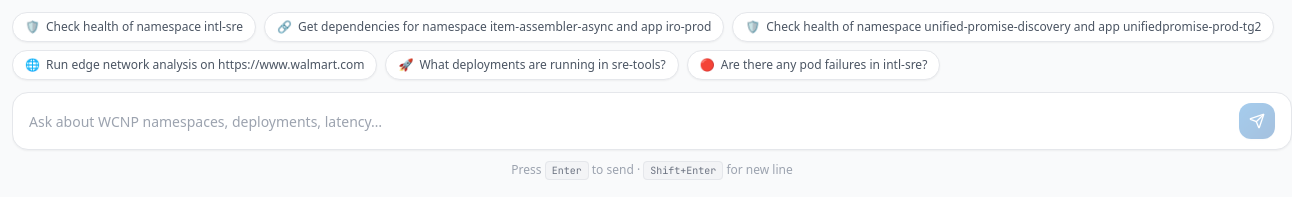
Scenario: ChatInput › hides suggested queries when input has text
The image size is (1292, 197).
In the text box: point(628, 121) left=29, top=110, right=1227, bottom=132, type "test"
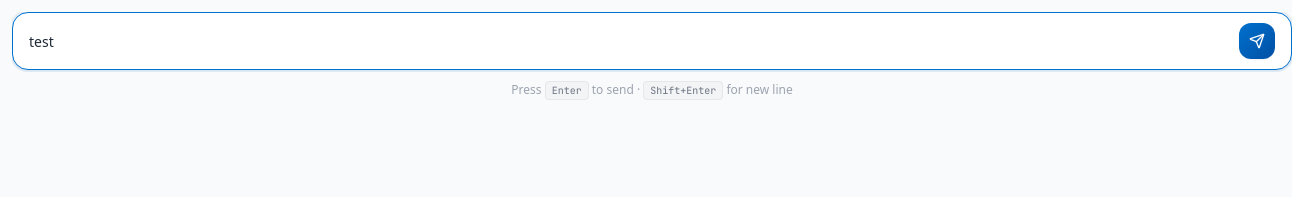
Now the button "Check health of namespace intl-sre" is gone
Now the button "Run edge network analysis" is gone
